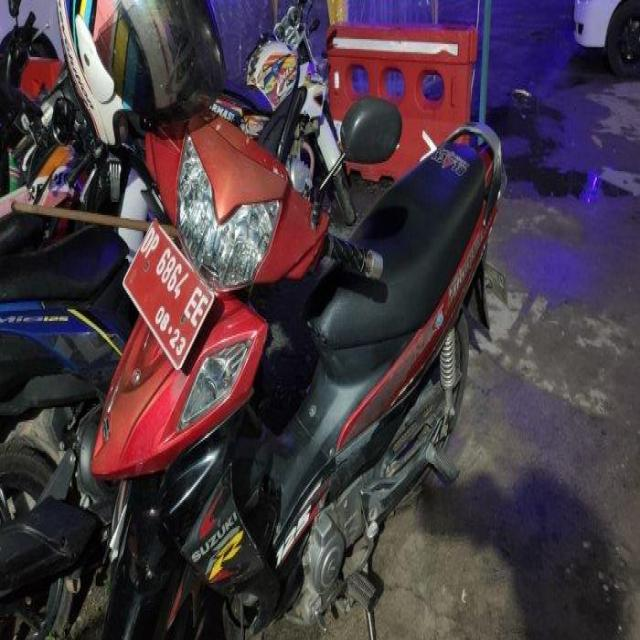License Plate: (122, 215, 215, 374)
